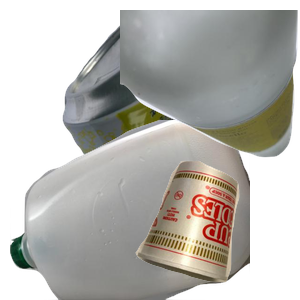glass: (120, 10, 300, 160)
metal: (60, 10, 300, 190)
plastic: (10, 120, 250, 300)
trash: (133, 158, 300, 300)
